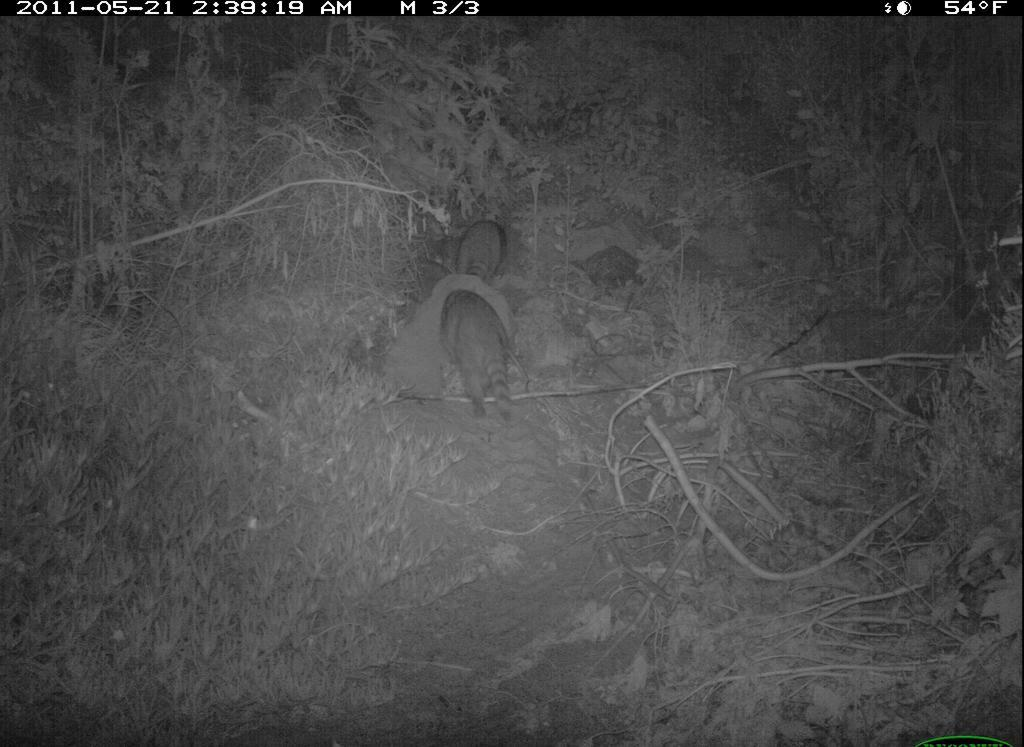raccoon: (438, 281, 527, 429), (449, 214, 514, 287)
